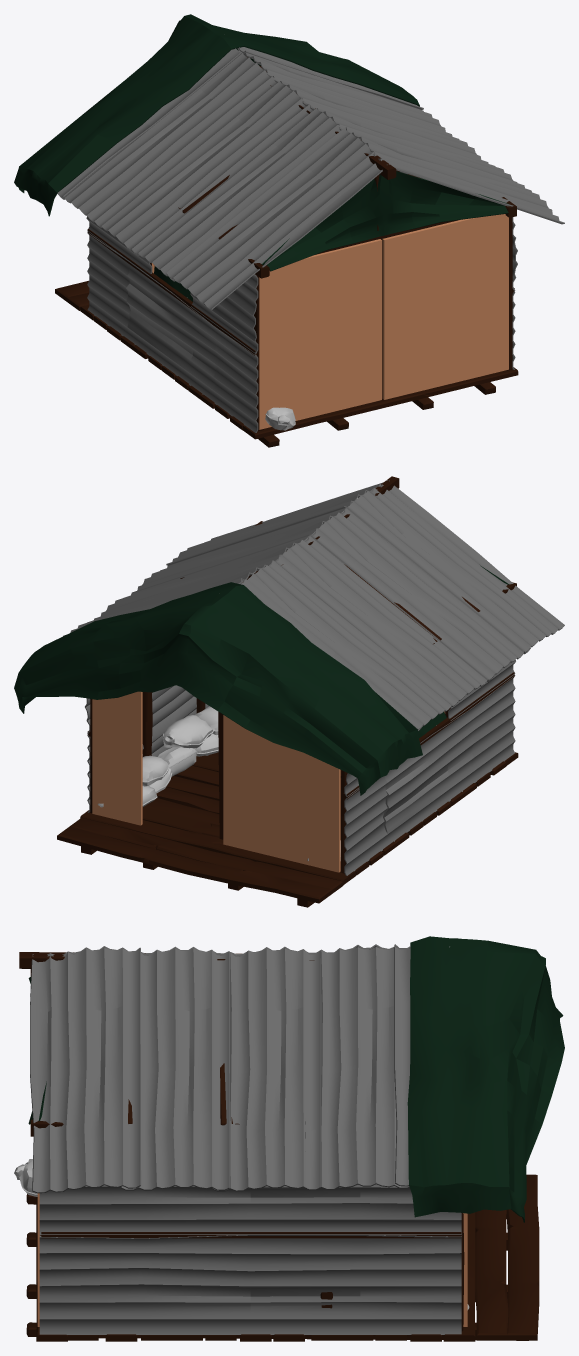
File: Shelter_monsoon.fbx
3 views of the same model, one above another, from view 1: azimuth 30°, elevation 25°; view 2: azimuth 150°, elevation 25°; view 3: azimuth 270°, elevation 25° (orthographic). The views are drawn at different scales.
Parts seen in each view (by area): view 1: shelter, floor, sandbag (13); view 2: shelter, floor, sandbag (8), sandbag (7), sandbag (11); view 3: shelter, floor.
Boxes of the visible parts, x1,y1,x2,y2 form: shelter: (14, 14, 564, 447); floor: (55, 280, 518, 439); sandbag (13): (265, 407, 295, 430); shelter: (14, 476, 564, 907); floor: (57, 752, 518, 903); sandbag (8): (162, 715, 213, 748); sandbag (7): (158, 746, 196, 776); sandbag (11): (142, 755, 169, 786); shelter: (19, 936, 564, 1340); floor: (36, 1174, 539, 1341).
Bounding box in the file's own units: 723 × 491 × 735.
